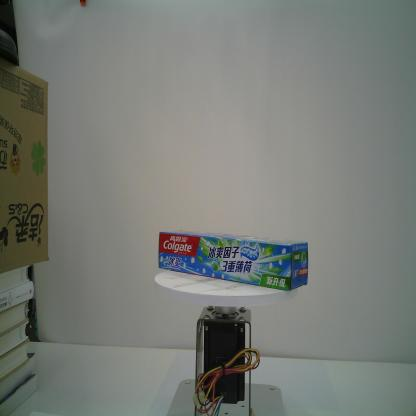Personal Hygiene: (157, 230, 309, 292)
